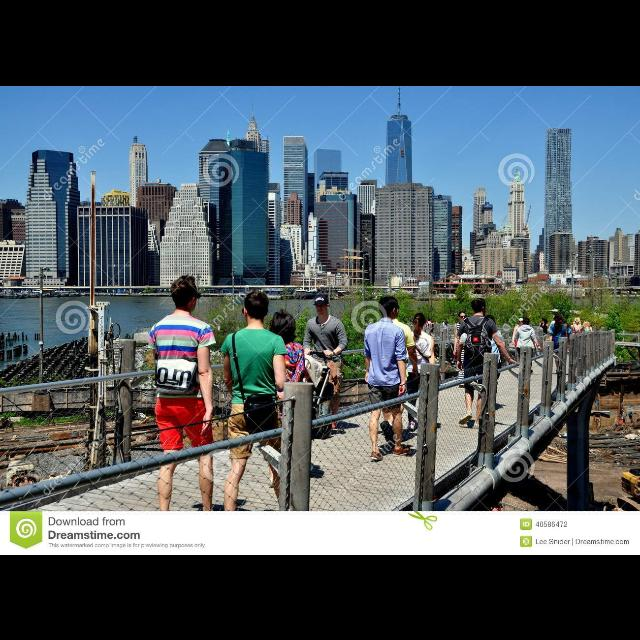head: (242, 290, 270, 324), (172, 276, 198, 310), (272, 314, 296, 336), (379, 296, 399, 318), (382, 297, 400, 317), (315, 294, 331, 314), (471, 297, 487, 315), (484, 314, 496, 330), (414, 312, 426, 326), (459, 310, 467, 322), (522, 317, 530, 325), (540, 316, 548, 322), (556, 314, 562, 322), (575, 316, 581, 324), (518, 318, 524, 324), (584, 320, 590, 326), (444, 318, 448, 322), (428, 318, 430, 320), (432, 320, 434, 322)
person: (218, 284, 308, 542), (146, 271, 218, 545), (255, 308, 325, 490), (360, 293, 416, 462), (454, 294, 520, 431), (300, 292, 350, 433), (376, 296, 418, 448), (402, 308, 440, 432), (473, 312, 505, 416), (450, 308, 480, 388), (512, 314, 544, 376), (549, 312, 575, 374), (512, 316, 530, 369), (568, 315, 586, 367), (578, 320, 594, 354), (538, 315, 552, 349), (442, 316, 451, 340), (428, 318, 438, 338), (426, 316, 434, 338)
